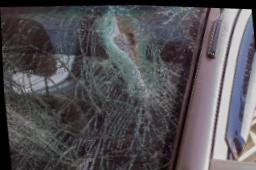Windshield: (0, 4, 210, 170)
